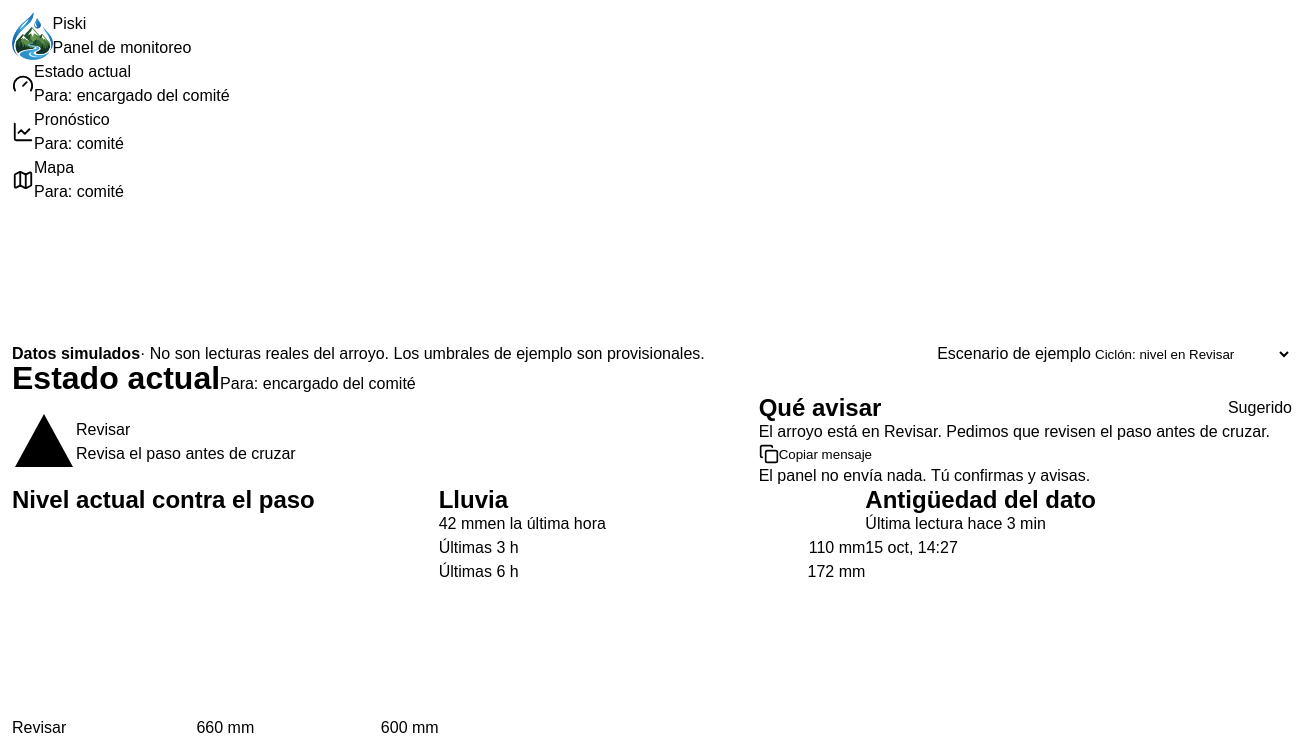
it: Aplicación: carga y errores › la barra de navegación lleva a Pronóstico y de vuelta, conservando el escenario y sin recargar
Expected: the text "Revisa el paso antes de cruzar" is shown, x1=76 y1=442 x2=296 y2=466
Click the link "Pronóstico Para: comité": point(72, 120) x1=12 y1=111 x2=124 y2=152
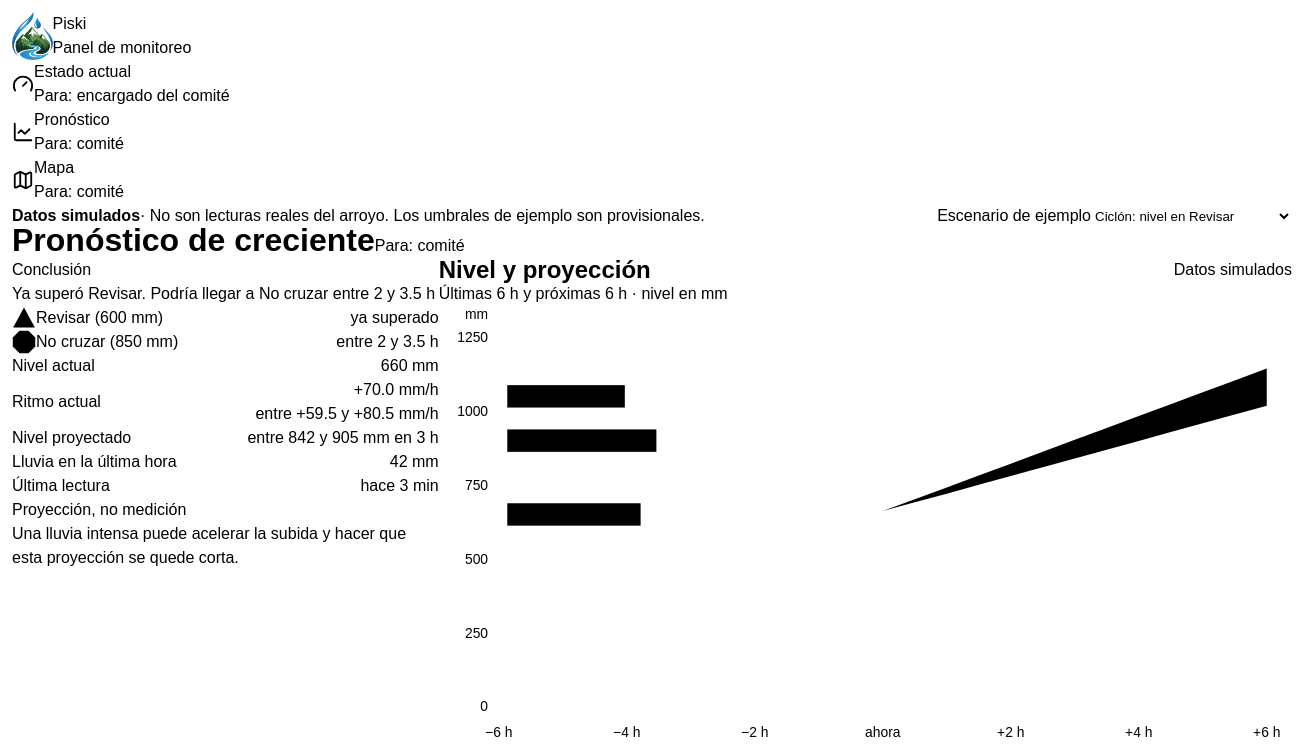
Expected: the dropdown labelled "Escenario de ejemplo" shows "Ciclón: nivel en Revisar", x1=1091 y1=208 x2=1292 y2=224
Expected: the heading "Pronóstico de creciente" is shown, x1=12 y1=228 x2=375 y2=252
Click the link "Estado actual Para: encargado del comité": point(82, 72) x1=12 y1=63 x2=230 y2=104
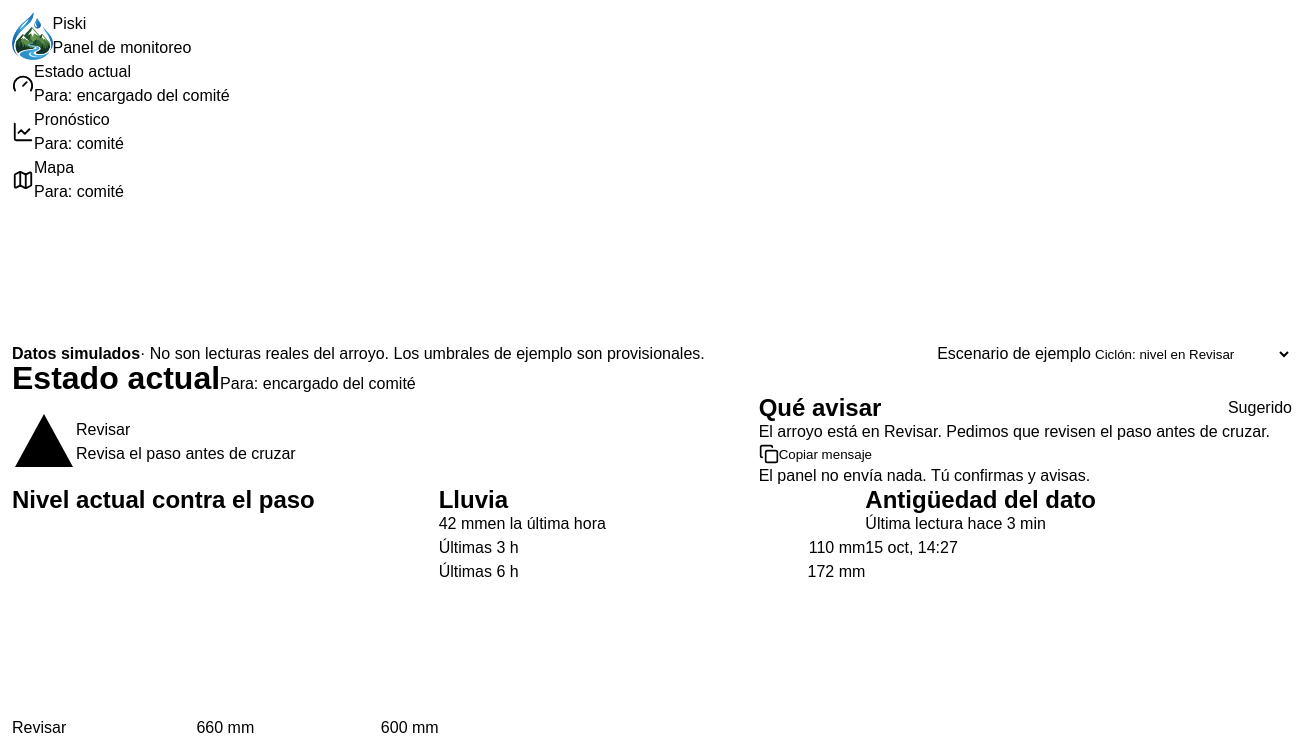
Expected: the heading "Estado actual" is shown, x1=12 y1=366 x2=220 y2=390
